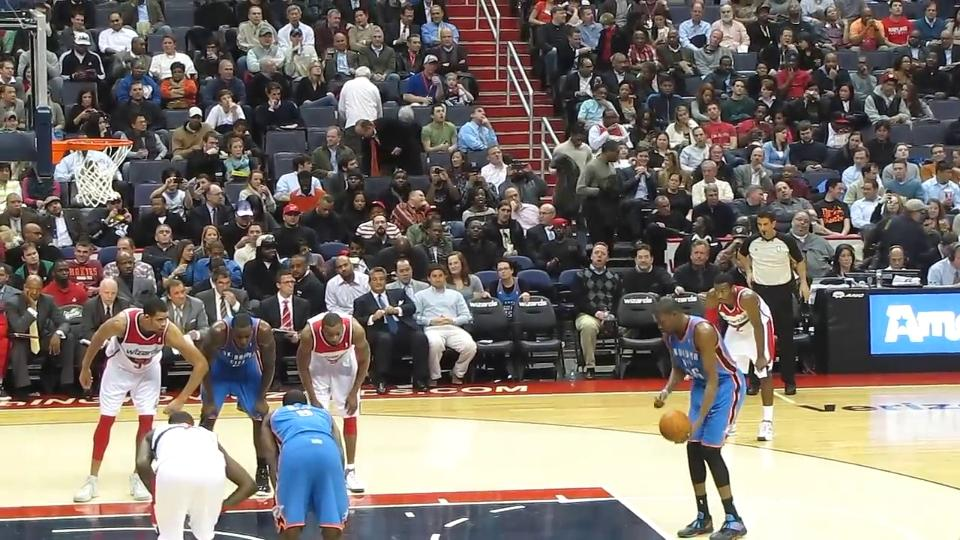hoop: (52, 136, 136, 153)
